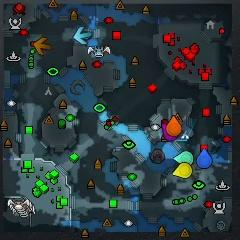p1: (196, 148, 212, 168)
p2: (173, 151, 195, 166)
p3: (161, 123, 177, 141)
p4: (172, 162, 193, 178)
p5: (166, 116, 182, 136)
x3: (73, 26, 92, 45)
x5: (34, 37, 52, 56)
